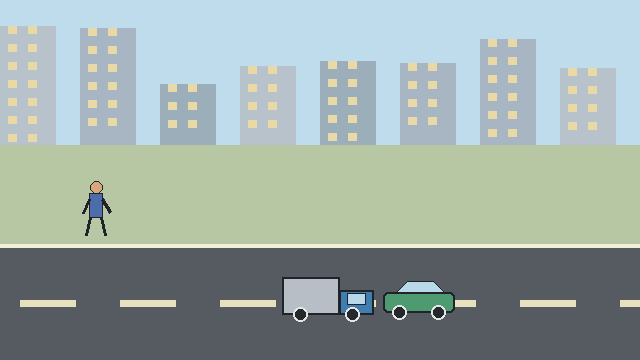car: (383, 281, 454, 319)
person: (83, 181, 111, 236)
truck: (282, 277, 373, 321)
